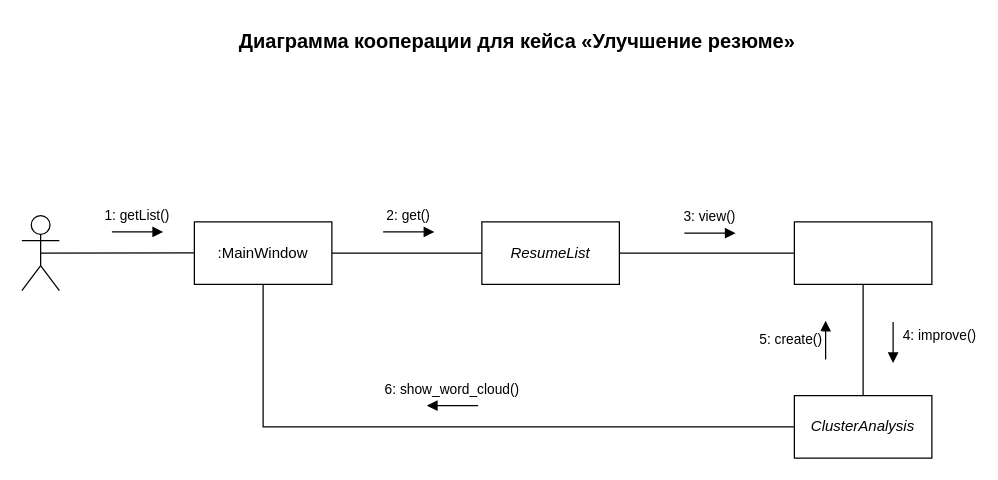
Image size: 998x480. Some labels were removed from this diagram. Each missing label, with the centre of its shape:
":Resume" goes at (x=862, y=252).
"User" goes at (x=40, y=252).
